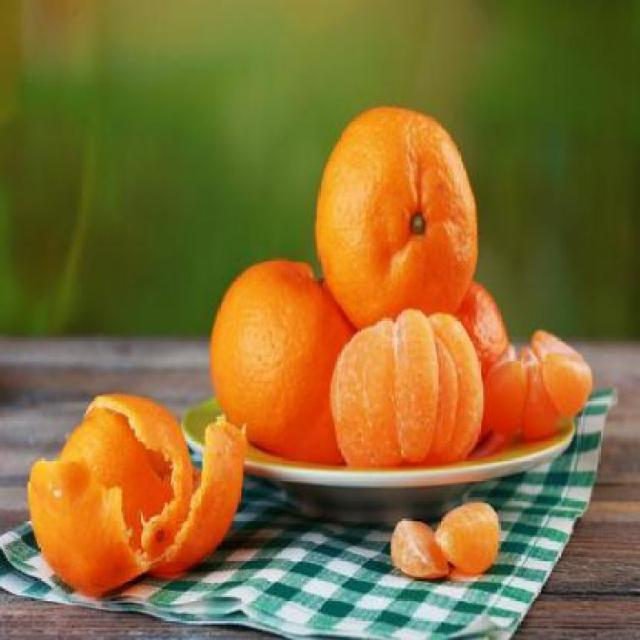Jeruk Sudah Matang: (314, 106, 480, 332), (204, 257, 368, 468)
